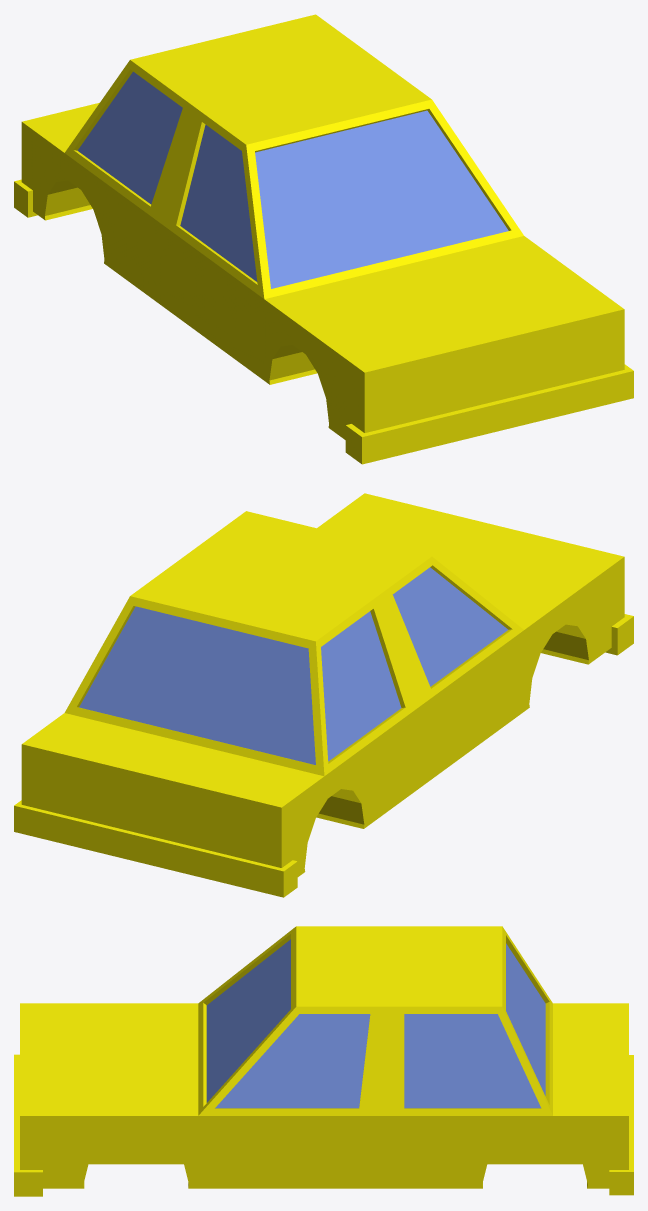
Rendered from body_yellow.gltf.
The picture shows the model from 3 angles, top to bottom: view 1: azimuth 30°, elevation 25°; view 2: azimuth 150°, elevation 25°; view 3: azimuth 270°, elevation 25°; orthographic projection. The views are drawn at different scales.
Visible parts, largest first — view 1: Body; view 2: Body; view 3: Body.
Part boxes in pixels (bbox=[...]): Body: bbox=[14, 14, 633, 464]; Body: bbox=[14, 493, 633, 897]; Body: bbox=[14, 926, 633, 1196].
Size of what is drawn, in the model's own units: 2.09 by 1.42 by 4.65.
